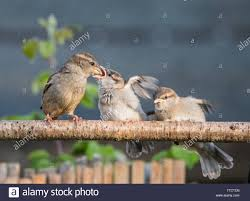hsparrow: (152, 84, 242, 180), (90, 63, 158, 157), (33, 51, 101, 124)
